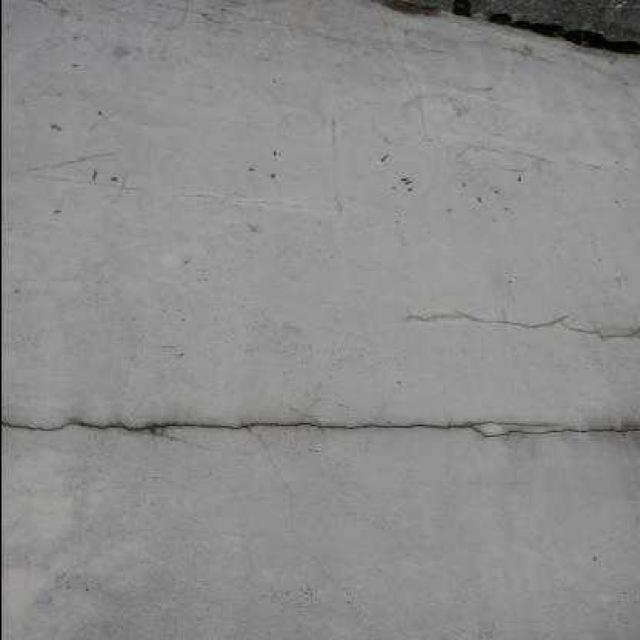D00: (0, 420, 640, 440)
